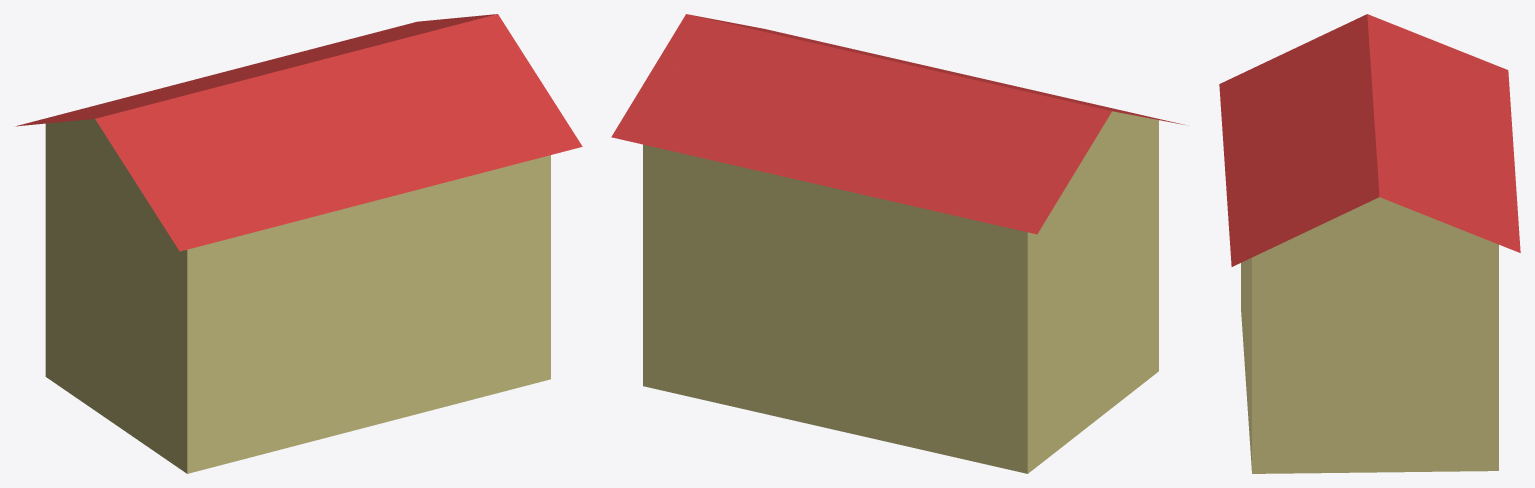
3 renders of one model, left to right at view 1: azimuth 30°, elevation 25°; view 2: azimuth 150°, elevation 25°; view 3: azimuth 270°, elevation 25°, orthographic. The views are drawn at different scales.
Parts seen in each view (by area): view 1: group_5, group_3, group_4; view 2: group_5, group_3, group_4; view 3: group_5, group_3, group_4.
Boxes of the visible parts, x1,y1,x2,y2 form: group_5: (45, 119, 550, 473); group_3: (32, 14, 550, 251); group_4: (16, 14, 582, 250); group_5: (643, 111, 1158, 473); group_3: (611, 15, 1187, 233); group_4: (664, 14, 1145, 234); group_5: (1241, 197, 1498, 473); group_3: (1219, 14, 1520, 252); group_4: (1219, 14, 1515, 266).
Bounding box in the file's own units: 15.74 × 10.74 × 11.18.
